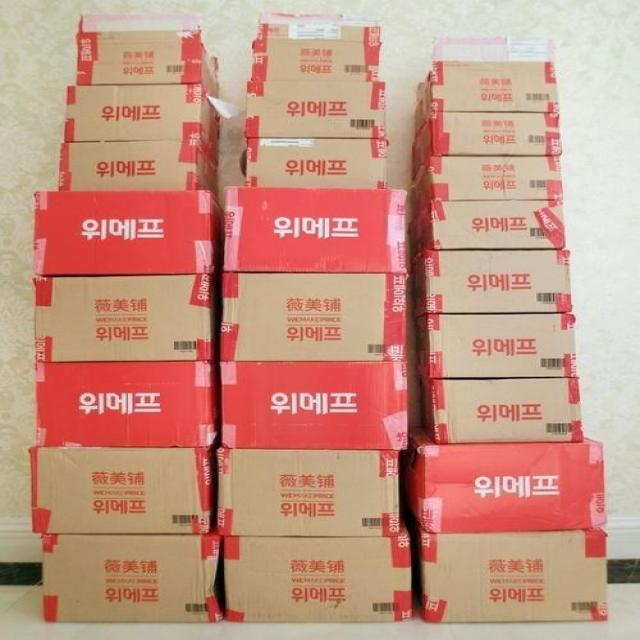box: (404, 425, 609, 534), (417, 526, 607, 624), (223, 527, 413, 622), (219, 361, 410, 453), (218, 272, 407, 361), (32, 189, 223, 275), (216, 448, 402, 536), (27, 446, 214, 533), (42, 533, 224, 622), (220, 189, 411, 273), (33, 361, 218, 447), (32, 274, 216, 359), (64, 83, 220, 165), (411, 61, 558, 140), (412, 249, 575, 317), (421, 376, 582, 443), (416, 314, 579, 379), (77, 29, 219, 100), (407, 157, 564, 221), (411, 112, 561, 178), (59, 140, 220, 200), (410, 199, 567, 259), (247, 81, 387, 138), (243, 137, 388, 188), (253, 39, 381, 80), (434, 37, 553, 63), (257, 21, 384, 45), (77, 14, 200, 33), (259, 12, 381, 25)
